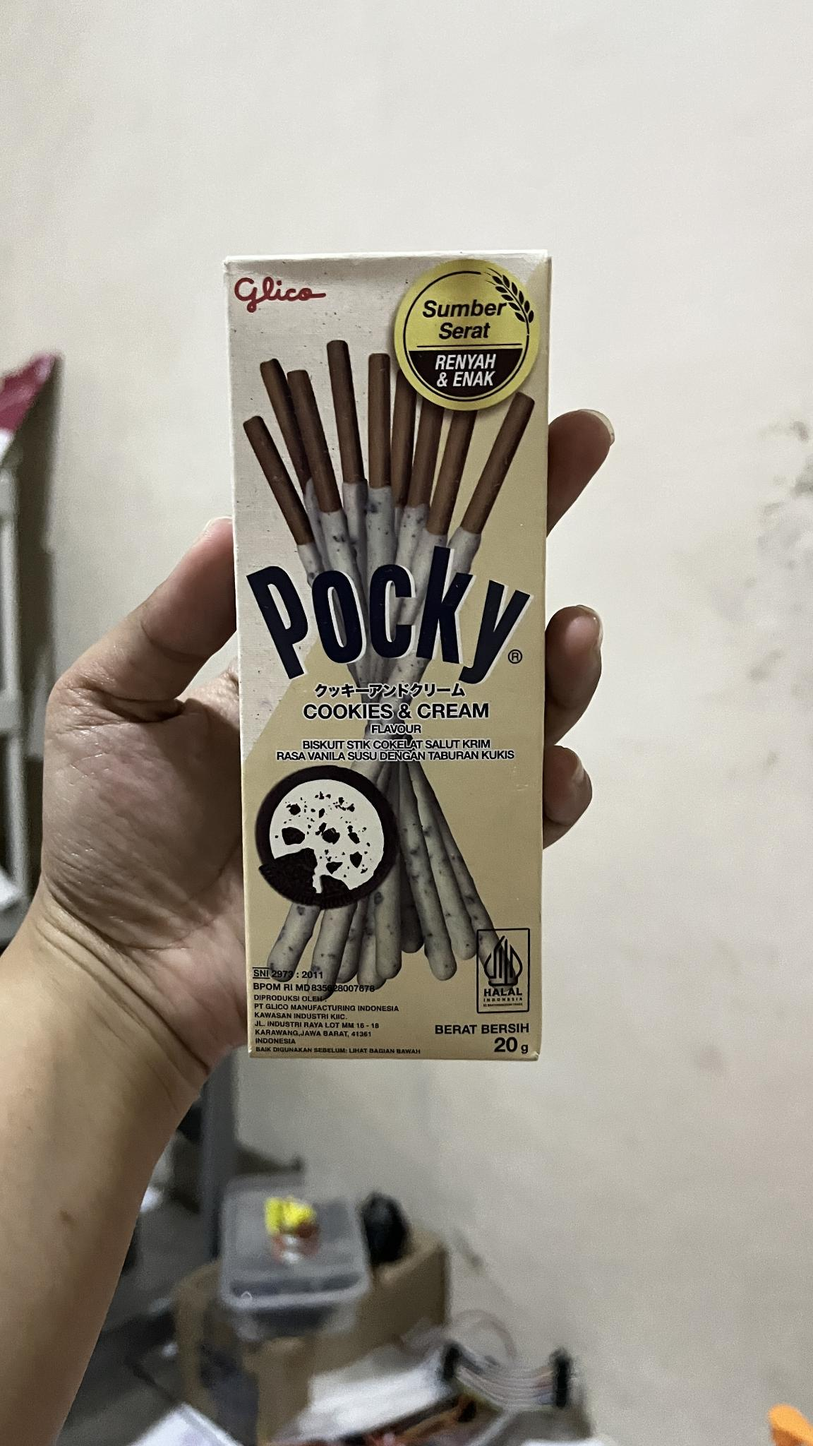Kertas: (219, 258, 541, 1065)
